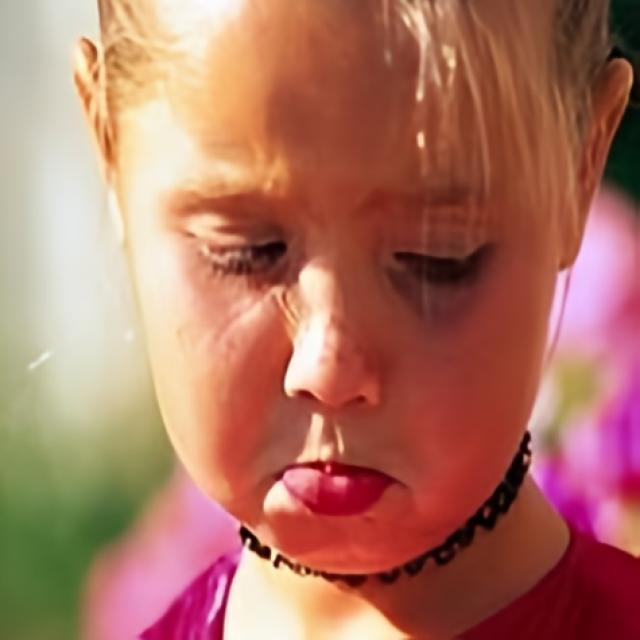sad: (133, 0, 563, 572)
